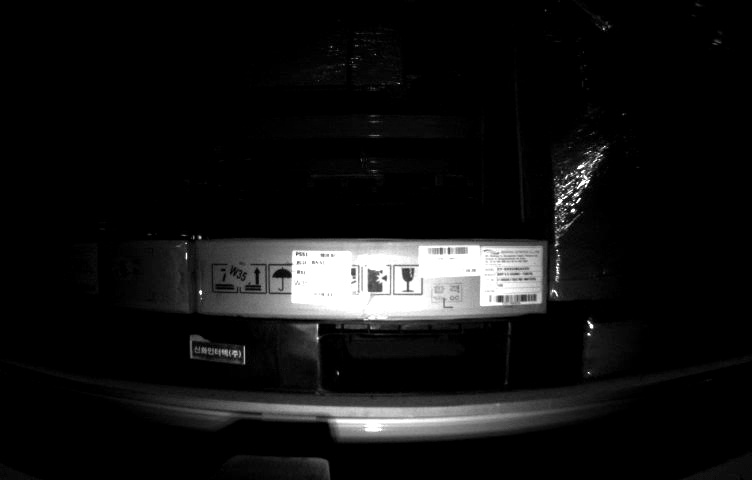True Barcode: (292, 246, 352, 307)
